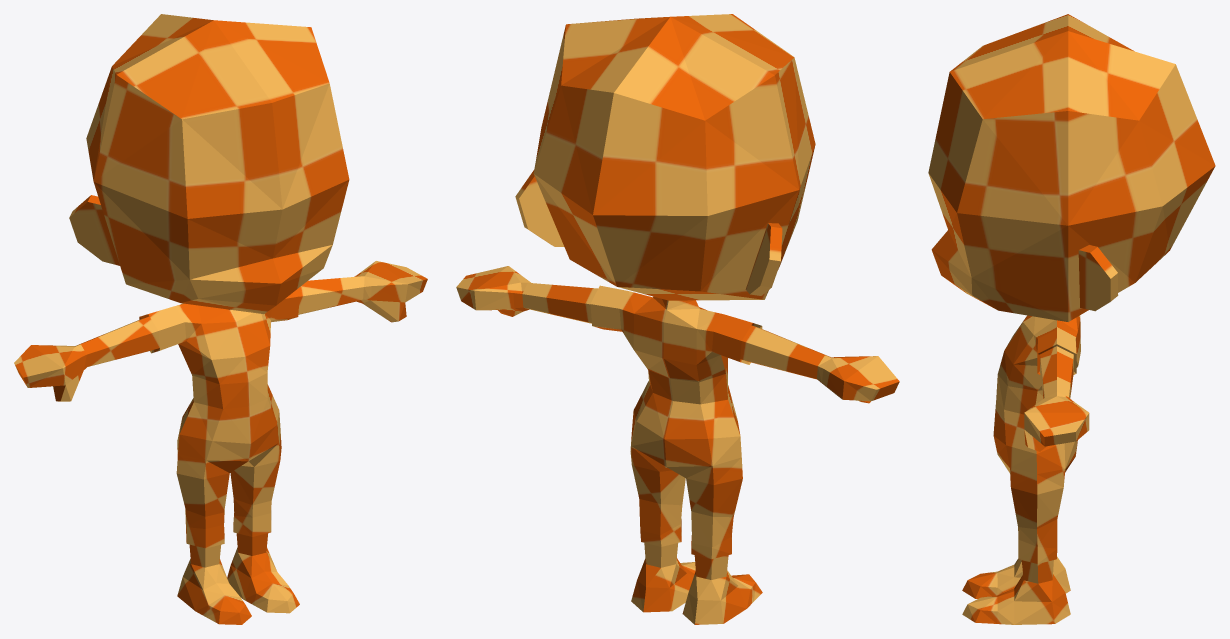
File: ObjectOnly.fbx
The picture shows the model from 3 angles, left to right: view 1: azimuth 30°, elevation 25°; view 2: azimuth 150°, elevation 25°; view 3: azimuth 270°, elevation 25°; orthographic projection. The views are drawn at different scales.
Visible parts, largest first — view 1: Obj_Body, Obj_Ear_R; view 2: Obj_Body, Obj_Ear_L, Obj_Ear_R; view 3: Obj_Body, Obj_Ear_L.
Boxes of the visible parts, bbox=[...] form: Obj_Body: bbox=[14, 14, 427, 624]; Obj_Ear_R: bbox=[69, 195, 119, 265]; Obj_Body: bbox=[456, 14, 899, 624]; Obj_Ear_L: bbox=[515, 170, 564, 246]; Obj_Ear_R: bbox=[745, 223, 782, 295]; Obj_Body: bbox=[928, 14, 1215, 624]; Obj_Ear_L: bbox=[1078, 245, 1118, 311].
Size of the model in its own units: 40.76 by 53.97 by 24.59.
Materials: 1 (1 with a texture image).
